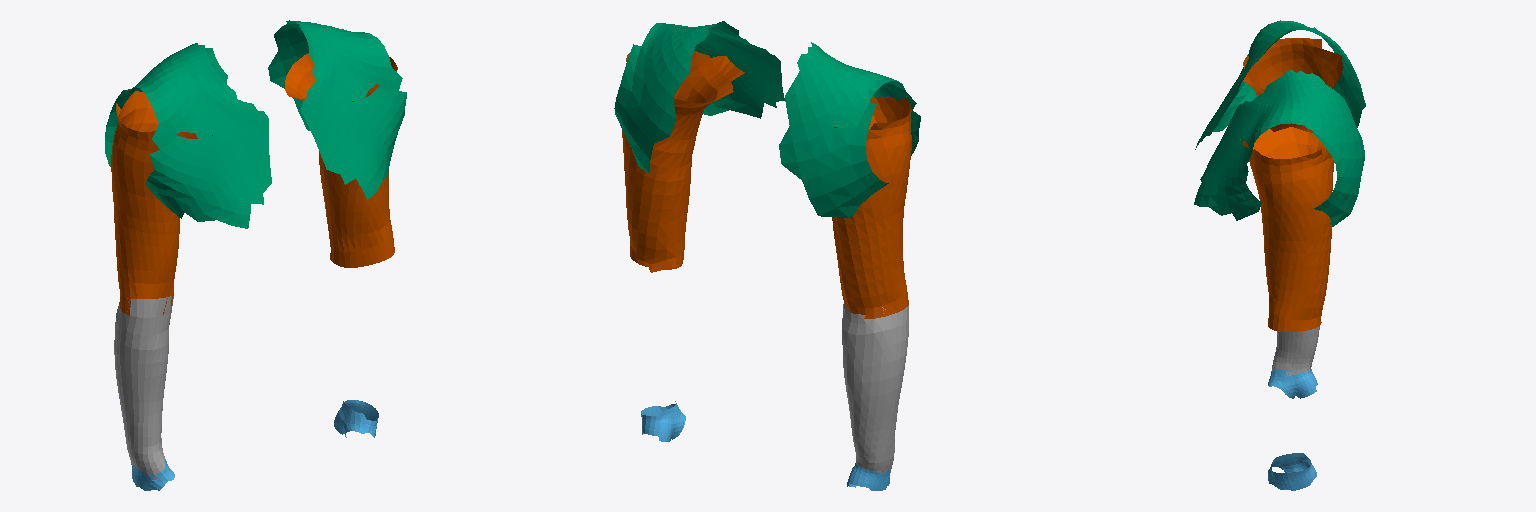
The robot description file, URDF, robot "soma_two_arms":
<robot name="soma_two_arms">
  <link name="base_link"/>
  <link name="Girdle"/>
  <joint name="girdle_mount" type="fixed"><parent link="base_link"/><child link="Girdle"/><origin xyz="0.000000 0.000000 0.000000" rpy="0.000000 0.000000 0.000000"/></joint>
  <link name="LeftShoulder"><visual><geometry><mesh filename="meshes/LeftShoulder.obj"/></geometry></visual><collision><geometry><mesh filename="meshes/LeftShoulder.obj"/></geometry></collision></link>
  <joint name="LeftShoulder_fixed" type="fixed"><parent link="Girdle"/><child link="LeftShoulder"/><origin xyz="0.017903 -0.050807 0.224135" rpy="0.000000 0.000000 0.000000"/></joint>
  <link name="LeftArm_p"/>
  <link name="LeftArm_r"/>
  <link name="LeftArm"><visual><geometry><mesh filename="meshes/LeftArm.obj"/></geometry></visual><collision><geometry><mesh filename="meshes/LeftArm.obj"/></geometry></collision></link>
  <joint name="Left_shoulder_pitch" type="revolute"><parent link="LeftShoulder"/><child link="LeftArm_p"/><origin xyz="0.149605 0.055173 0.000000" rpy="0.000000 1.570796 0.000000"/><axis xyz="0.000000 0.000000 1.000000"/><limit lower="-3.0" upper="3.0" effort="100" velocity="6.0"/></joint>
  <joint name="Left_shoulder_roll" type="revolute"><parent link="LeftArm_p"/><child link="LeftArm_r"/><origin xyz="0.000000 0.000000 0.000000" rpy="0.000000 0.000000 0.000000"/><axis xyz="0.000000 1.000000 0.000000"/><limit lower="-2.8" upper="2.8" effort="100" velocity="6.0"/></joint>
  <joint name="Left_shoulder_yaw" type="revolute"><parent link="LeftArm_r"/><child link="LeftArm"/><origin xyz="0.000000 0.000000 0.000000" rpy="0.000000 0.000000 0.000000"/><axis xyz="1.000000 0.000000 0.000000"/><limit lower="-1.6" upper="1.6" effort="100" velocity="6.0"/></joint>
  <link name="LeftForeArm_e"/>
  <link name="LeftForeArm"><visual><geometry><mesh filename="meshes/LeftForeArm.obj"/></geometry></visual><collision><geometry><mesh filename="meshes/LeftForeArm.obj"/></geometry></collision></link>
  <joint name="Left_elbow" type="revolute"><parent link="LeftArm"/><child link="LeftForeArm_e"/><origin xyz="0.274125 0.000000 0.000000" rpy="0.000000 0.000000 0.000000"/><axis xyz="0.000000 0.000000 -1.000000"/><limit lower="0.0" upper="2.6" effort="100" velocity="6.0"/></joint>
  <joint name="Left_forearm_twist" type="revolute"><parent link="LeftForeArm_e"/><child link="LeftForeArm"/><origin xyz="0.000000 0.000000 0.000000" rpy="0.000000 0.000000 0.000000"/><axis xyz="1.000000 0.000000 0.000000"/><limit lower="-1.6" upper="1.6" effort="100" velocity="6.0"/></joint>
  <link name="LeftHand_f"/>
  <link name="LeftHand"><visual><geometry><mesh filename="meshes/LeftPalm.obj"/></geometry></visual><collision><geometry><mesh filename="meshes/LeftHand.obj"/></geometry></collision></link>
  <joint name="Left_wrist_flex" type="revolute"><parent link="LeftForeArm"/><child link="LeftHand_f"/><origin xyz="0.248509 0.000000 0.000000" rpy="0.000000 0.000000 0.000000"/><axis xyz="0.000000 1.000000 0.000000"/><limit lower="-1.2" upper="1.2" effort="100" velocity="6.0"/></joint>
  <joint name="Left_wrist_dev" type="revolute"><parent link="LeftHand_f"/><child link="LeftHand"/><origin xyz="0.000000 0.000000 0.000000" rpy="0.000000 0.000000 0.000000"/><axis xyz="0.000000 0.000000 1.000000"/><limit lower="-0.6" upper="0.6" effort="100" velocity="6.0"/></joint>
  <link name="RightShoulder"><visual><geometry><mesh filename="meshes/RightShoulder.obj"/></geometry></visual><collision><geometry><mesh filename="meshes/RightShoulder.obj"/></geometry></collision></link>
  <joint name="RightShoulder_fixed" type="fixed"><parent link="Girdle"/><child link="RightShoulder"/><origin xyz="-0.019258 -0.050472 0.224100" rpy="0.000000 0.000000 0.000000"/></joint>
  <link name="RightArm_p"/>
  <link name="RightArm_r"/>
  <link name="RightArm"><visual><geometry><mesh filename="meshes/RightArm.obj"/></geometry></visual><collision><geometry><mesh filename="meshes/RightArm.obj"/></geometry></collision></link>
  <joint name="Right_shoulder_pitch" type="revolute"><parent link="RightShoulder"/><child link="RightArm_p"/><origin xyz="-0.149601 0.055172 0.000000" rpy="0.000000 -1.570796 0.000000"/><axis xyz="0.000000 0.000000 -1.000000"/><limit lower="-3.0" upper="3.0" effort="100" velocity="6.0"/></joint>
  <joint name="Right_shoulder_roll" type="revolute"><parent link="RightArm_p"/><child link="RightArm_r"/><origin xyz="0.000000 0.000000 0.000000" rpy="0.000000 0.000000 0.000000"/><axis xyz="0.000000 1.000000 0.000000"/><limit lower="-2.8" upper="2.8" effort="100" velocity="6.0"/></joint>
  <joint name="Right_shoulder_yaw" type="revolute"><parent link="RightArm_r"/><child link="RightArm"/><origin xyz="0.000000 0.000000 0.000000" rpy="0.000000 0.000000 0.000000"/><axis xyz="-1.000000 0.000000 0.000000"/><limit lower="-1.6" upper="1.6" effort="100" velocity="6.0"/></joint>
  <link name="RightForeArm_e"/>
  <link name="RightForeArm"><visual><geometry><mesh filename="meshes/RightForeArm.obj"/></geometry></visual><collision><geometry><mesh filename="meshes/RightForeArm.obj"/></geometry></collision></link>
  <joint name="Right_elbow" type="revolute"><parent link="RightArm"/><child link="RightForeArm_e"/><origin xyz="-0.274026 0.000000 0.000000" rpy="0.000000 0.000000 0.000000"/><axis xyz="0.000000 0.000000 1.000000"/><limit lower="0.0" upper="2.6" effort="100" velocity="6.0"/></joint>
  <joint name="Right_forearm_twist" type="revolute"><parent link="RightForeArm_e"/><child link="RightForeArm"/><origin xyz="0.000000 0.000000 0.000000" rpy="0.000000 0.000000 0.000000"/><axis xyz="-1.000000 0.000000 0.000000"/><limit lower="-1.6" upper="1.6" effort="100" velocity="6.0"/></joint>
  <link name="RightHand_f"/>
  <link name="RightHand"><visual><geometry><mesh filename="meshes/RightPalm.obj"/></geometry></visual><collision><geometry><mesh filename="meshes/RightHand.obj"/></geometry></collision></link>
  <joint name="Right_wrist_flex" type="revolute"><parent link="RightForeArm"/><child link="RightHand_f"/><origin xyz="-0.248608 0.000000 -0.000000" rpy="0.000000 0.000000 0.000000"/><axis xyz="0.000000 -1.000000 0.000000"/><limit lower="-1.2" upper="1.2" effort="100" velocity="6.0"/></joint>
  <joint name="Right_wrist_dev" type="revolute"><parent link="RightHand_f"/><child link="RightHand"/><origin xyz="0.000000 0.000000 0.000000" rpy="0.000000 0.000000 0.000000"/><axis xyz="0.000000 0.000000 1.000000"/><limit lower="-0.6" upper="0.6" effort="100" velocity="6.0"/></joint>
</robot>

--- Facts derived from the render (not from the file) ---
3 views of the same robot in one strip: view 1: azimuth 30°, elevation 25°; view 2: azimuth 150°, elevation 25°; view 3: azimuth 270°, elevation 25° (orthographic).
Model soma_two_arms with 18 links and 17 joints (14 revolute, 3 fixed), rooted at base_link, posed every joint at zero.
Links seen in each view (by area): view 1: RightShoulder, LeftShoulder, RightArm, RightForeArm, LeftArm, LeftHand, RightHand; view 2: RightShoulder, LeftShoulder, RightArm, LeftArm, RightForeArm, LeftHand, RightHand; view 3: LeftArm, LeftShoulder, RightShoulder, RightArm, RightForeArm, LeftHand, RightHand.
Boxes of the visible links, left/top/right/bottom form: RightShoulder: left=105, top=43, right=271, bottom=228; LeftShoulder: left=268, top=20, right=406, bottom=199; RightArm: left=111, top=91, right=212, bottom=315; RightForeArm: left=114, top=296, right=173, bottom=479; LeftArm: left=285, top=53, right=397, bottom=267; LeftHand: left=334, top=400, right=378, bottom=437; RightHand: left=131, top=459, right=174, bottom=490; RightShoulder: left=779, top=42, right=920, bottom=217; LeftShoulder: left=614, top=21, right=784, bottom=173; RightArm: left=832, top=96, right=911, bottom=318; LeftArm: left=622, top=50, right=744, bottom=272; RightForeArm: left=842, top=304, right=908, bottom=473; LeftHand: left=641, top=401, right=685, bottom=441; RightHand: left=847, top=463, right=891, bottom=490; LeftArm: left=1240, top=127, right=1334, bottom=331; LeftShoulder: left=1194, top=69, right=1364, bottom=226; RightShoulder: left=1195, top=20, right=1365, bottom=149; RightArm: left=1240, top=38, right=1343, bottom=132; RightForeArm: left=1271, top=326, right=1319, bottom=376; LeftHand: left=1268, top=453, right=1316, bottom=490; RightHand: left=1268, top=368, right=1317, bottom=398.
Size in the robot's own frame: 0.4318 by 0.2545 by 0.6361 metres.
7 mesh visuals loaded from 8 distinct referenced files (7 OBJ); not drawn: 1 (reference not matched to a file when rendering).
